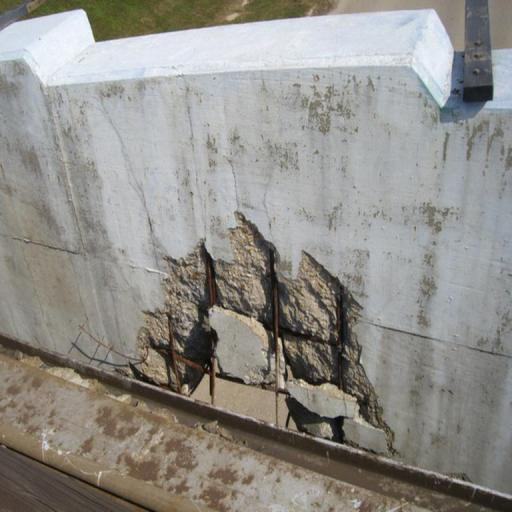spalling: (120, 230, 406, 456)
